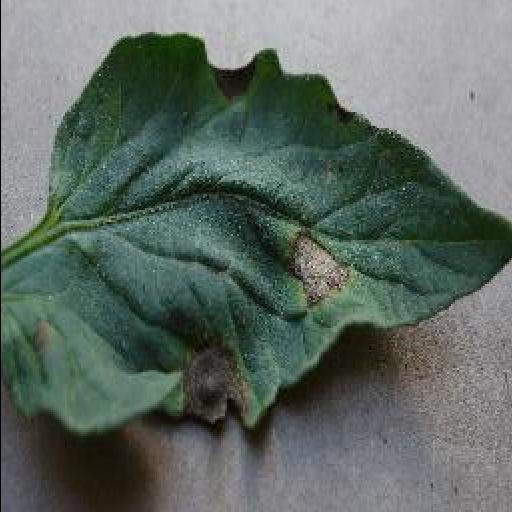disease_tomato: (0, 32, 512, 434)
